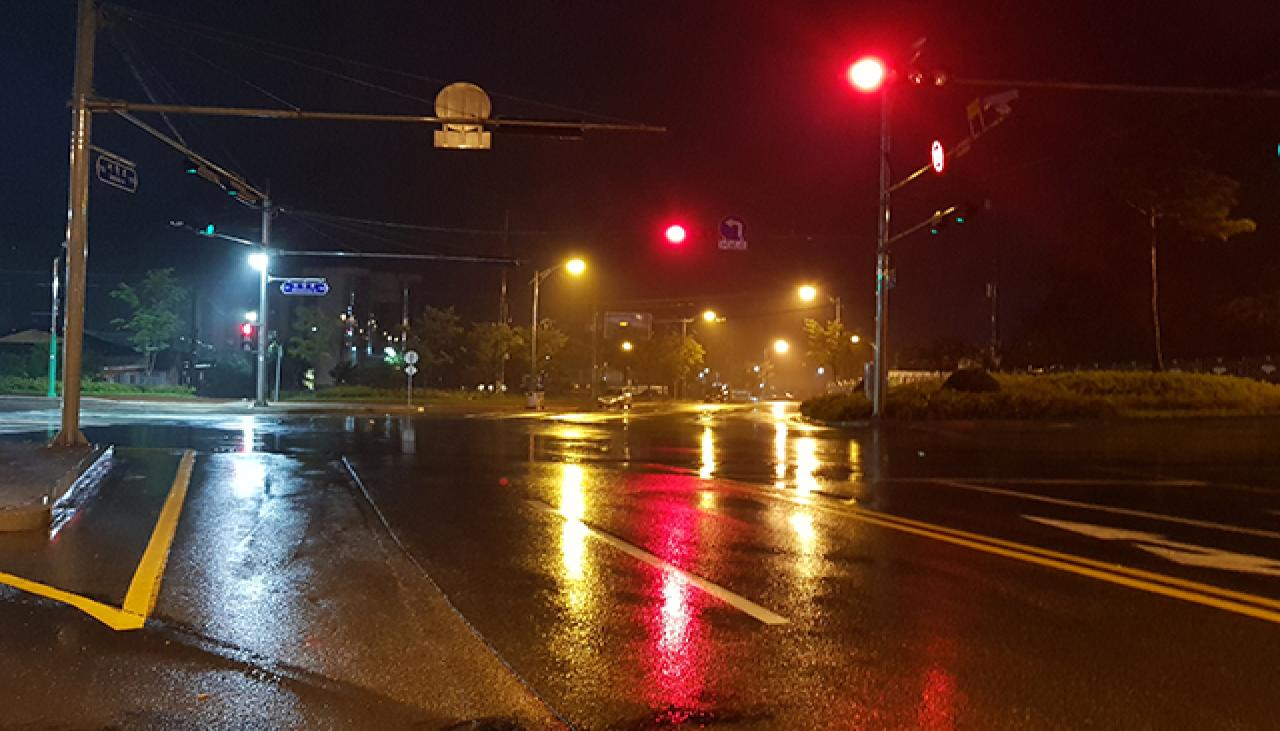Red Light: (839, 54, 895, 96), (663, 220, 690, 249)
